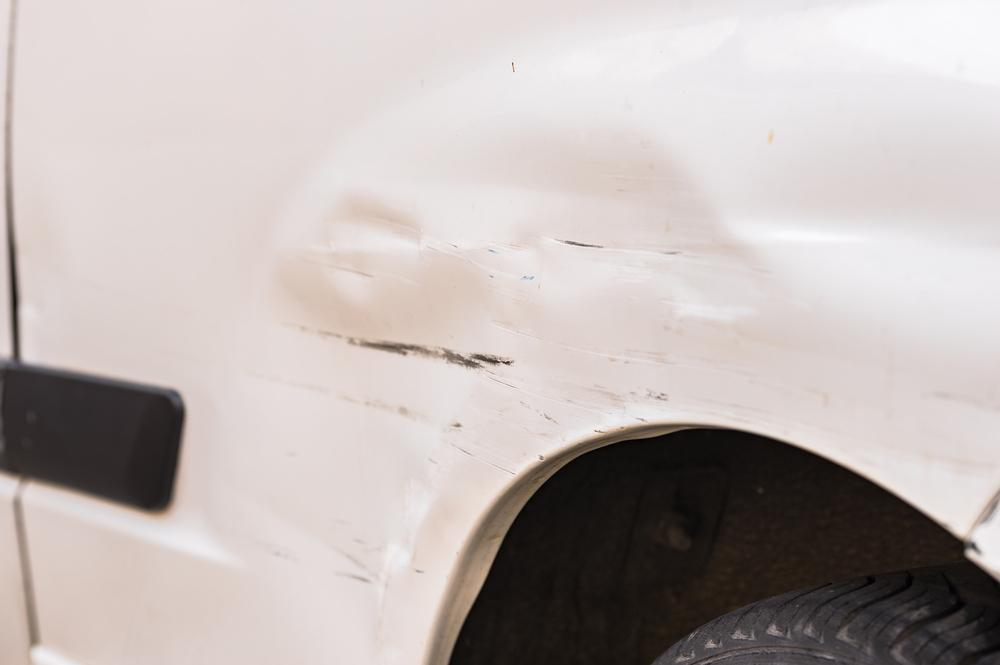dent: (241, 109, 775, 574)
scratch: (459, 285, 834, 481)
